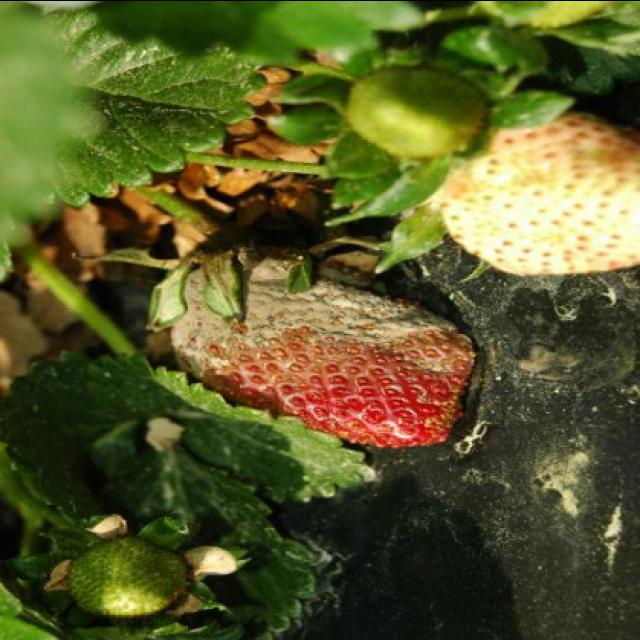Gray Mold: (145, 246, 477, 450)
